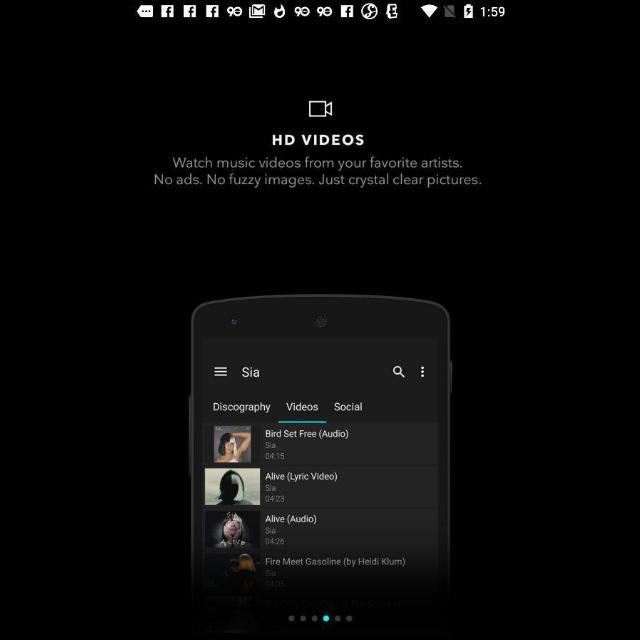image: (188, 294, 452, 584), (308, 102, 332, 118)
pageindicator: (288, 614, 352, 622)
text: (153, 157, 480, 189), (272, 134, 364, 146)
uppertaskbar: (128, 2, 512, 20)
